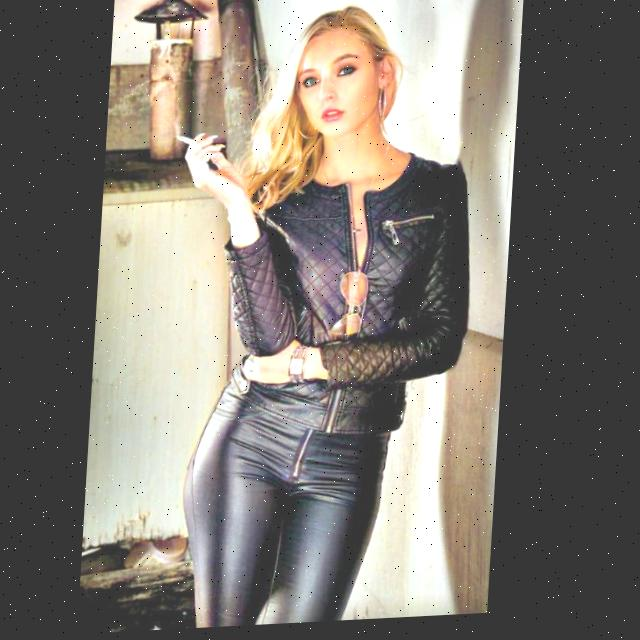cigarette: (175, 134, 199, 148)
